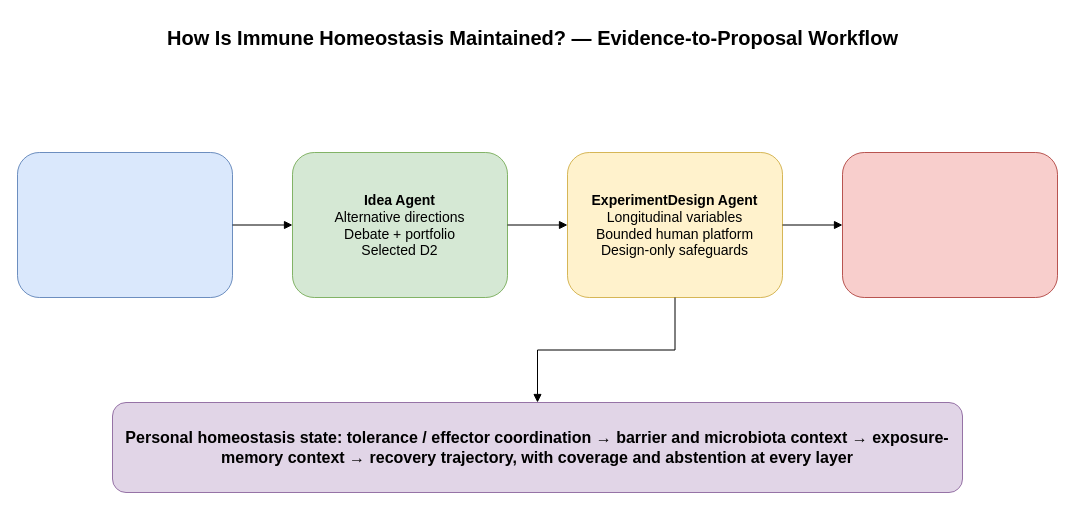
Image size: 1075x510. Some labels were removed from this diagram. The box of each missing label's shape, as (x1, y1, x2, y2) in pixels:
Author Agent Source-bound IEEE report No observed results Human review: (842, 152, 1058, 298)
Survey Agent Human evidence map Gap ledger Claim limits: (16, 152, 232, 298)
